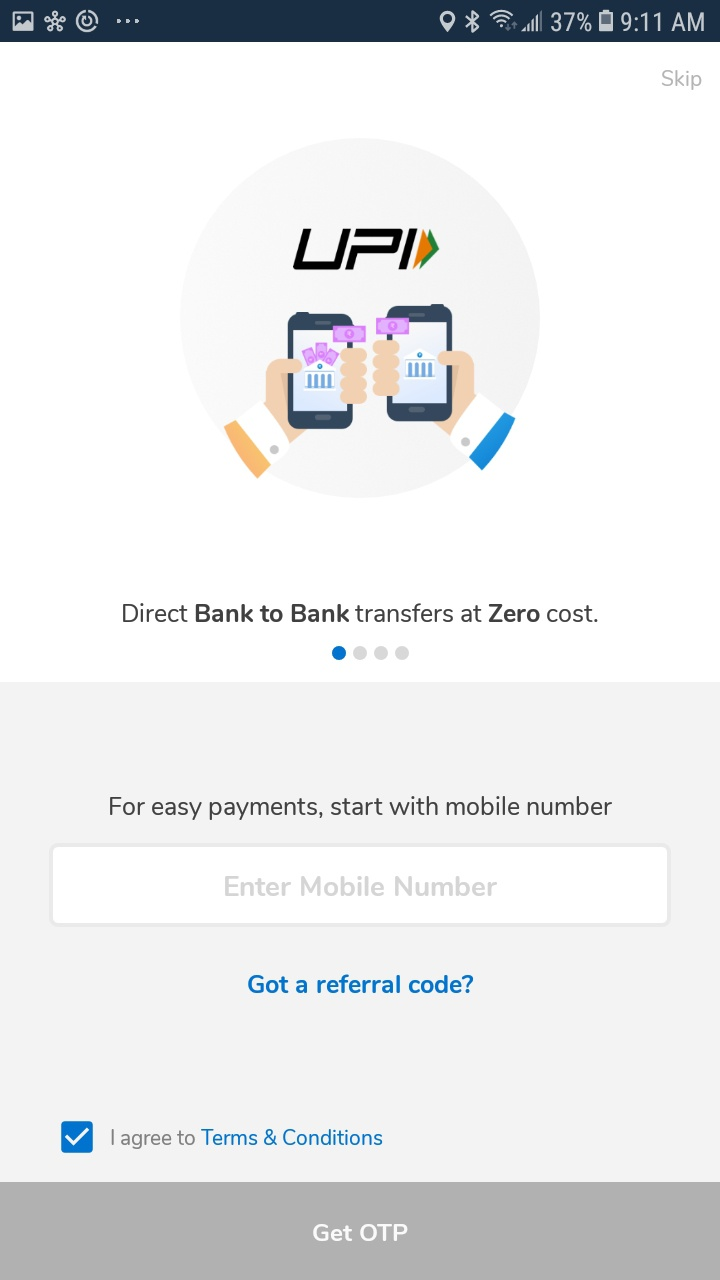CheckedTextView: (61, 1120, 383, 1154)
EditText: (49, 843, 671, 928)
Image: (180, 138, 542, 500)
PageIndicator: (331, 645, 410, 661)
Text: (110, 796, 613, 821), (123, 602, 599, 623), (225, 875, 498, 897), (111, 1128, 383, 1150), (248, 974, 474, 994), (661, 70, 702, 92)
TextButton: (1, 1182, 720, 1280)
UpperTaskBar: (1, 1, 720, 43)
